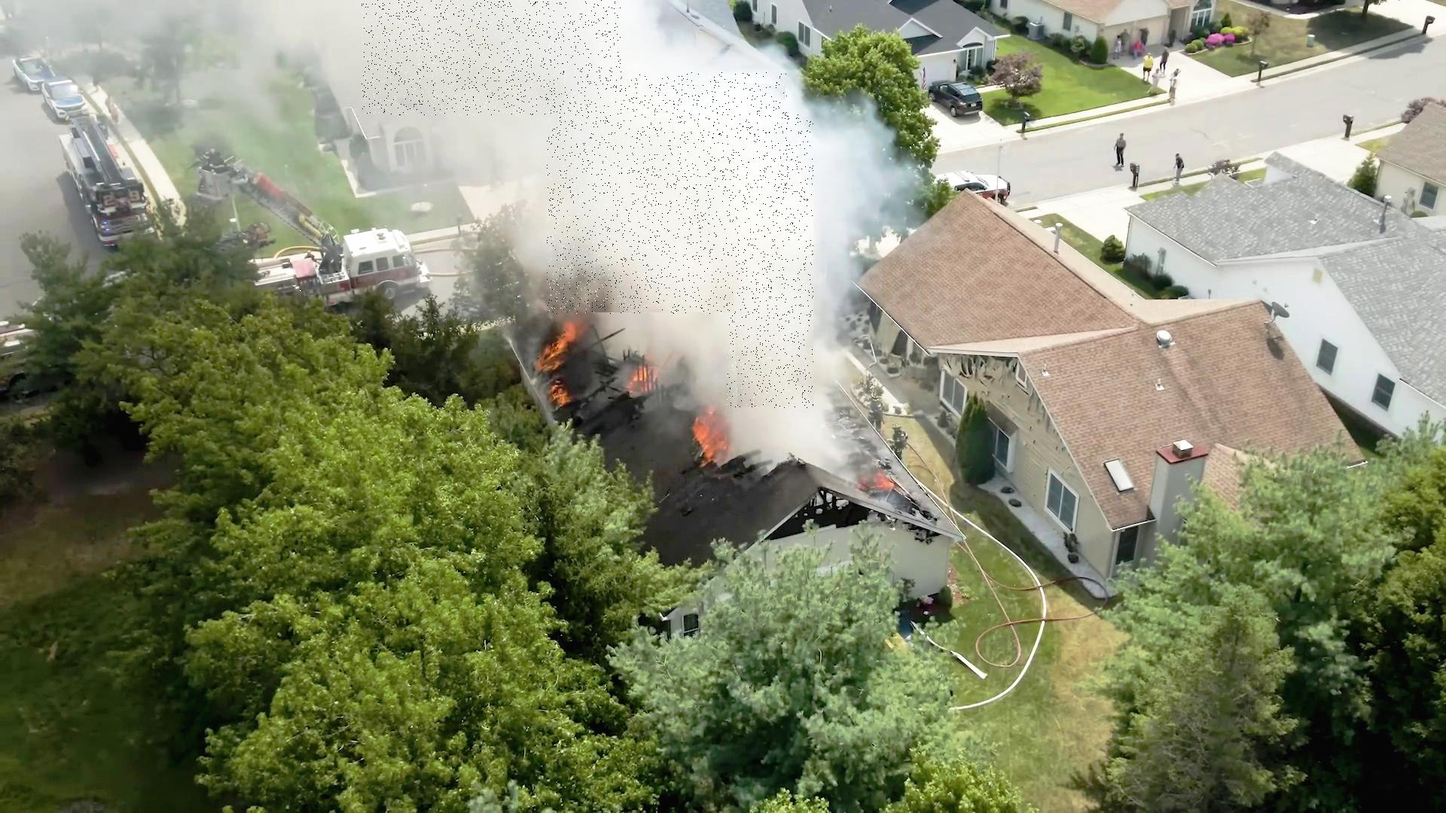smoke: (547, 73, 788, 315), (362, 0, 622, 115), (727, 115, 814, 409)
